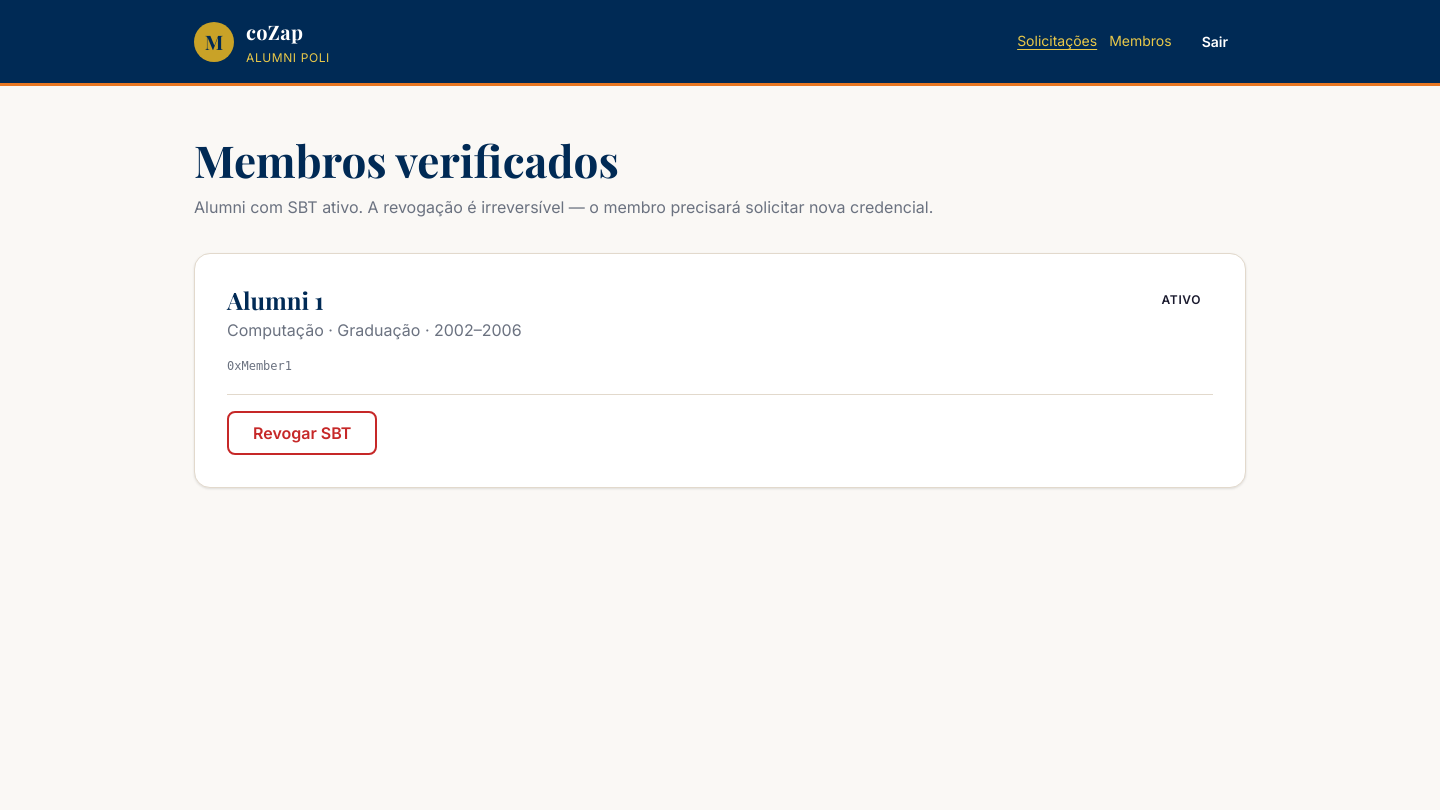
Scenario: MembrosPage › exibe erro se revokeCredential falhar
This screenshot has width=1440, height=810.
Expected: the heading "Alumni 1" is shown, [227,284,324,316]
Click the button "Revogar SBT".
click(302, 433)  # box [227,411,377,455]
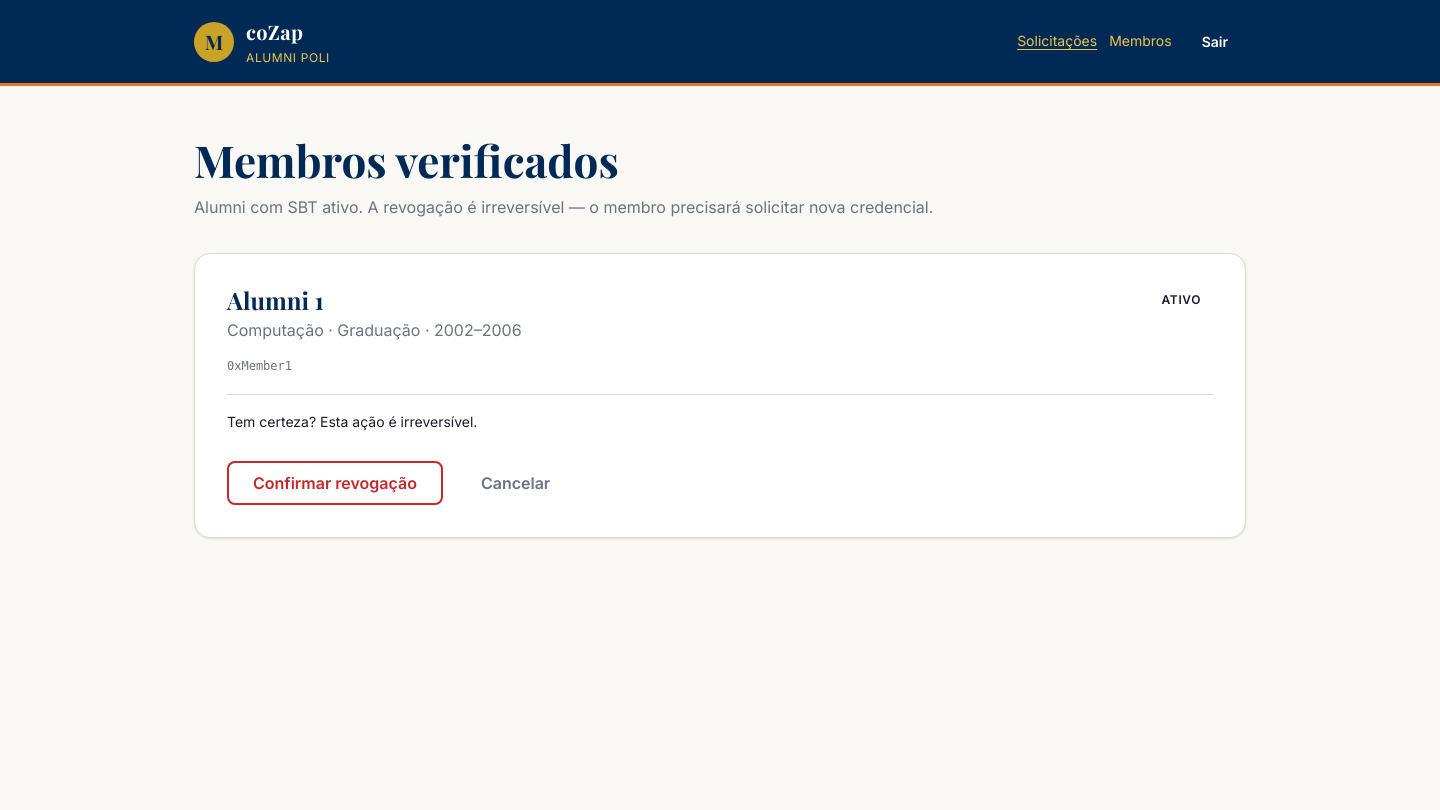
Click the button "Confirmar revogação".
click(335, 483)  # box [227,461,443,505]
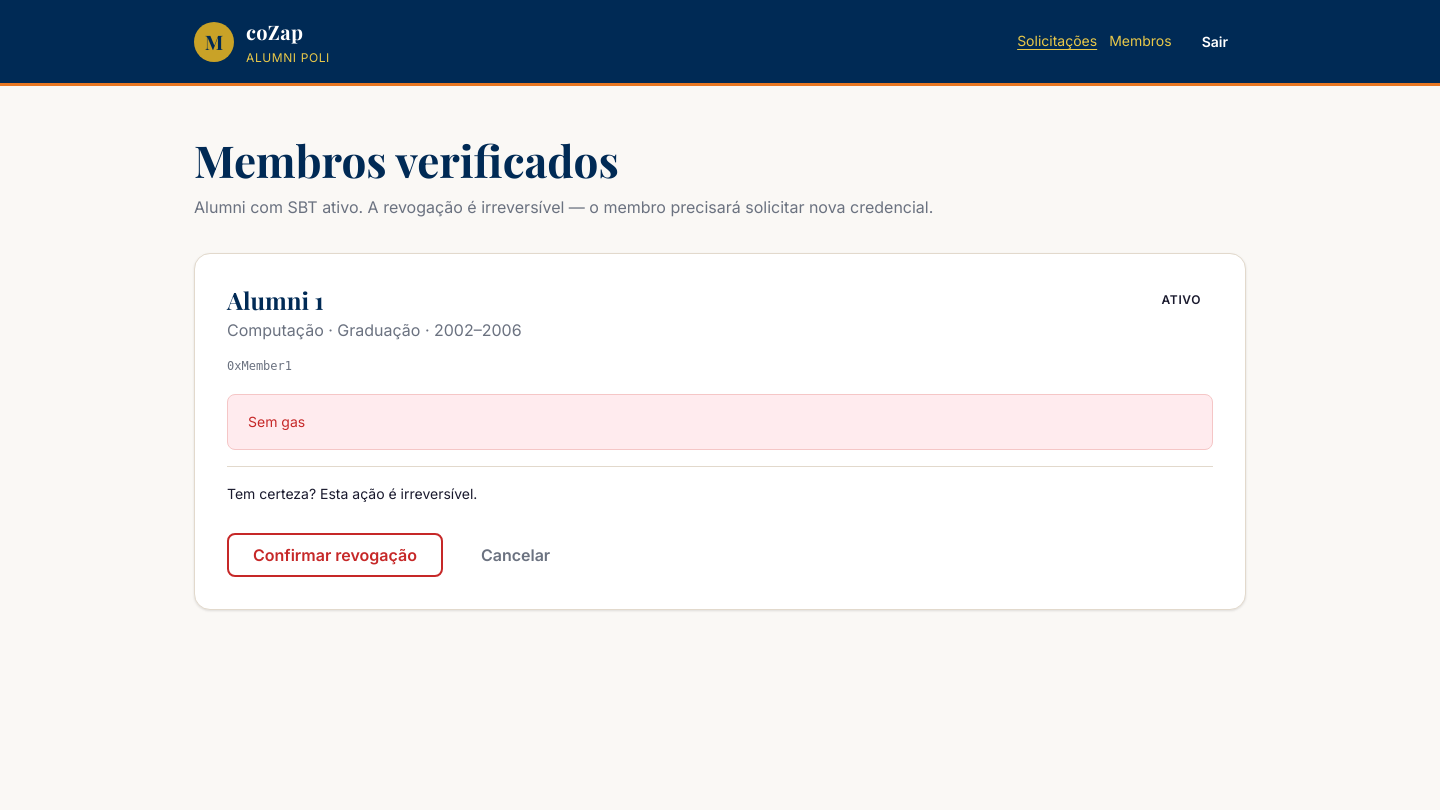
Expected: the message reads "Sem gas", [248,413,305,430]
